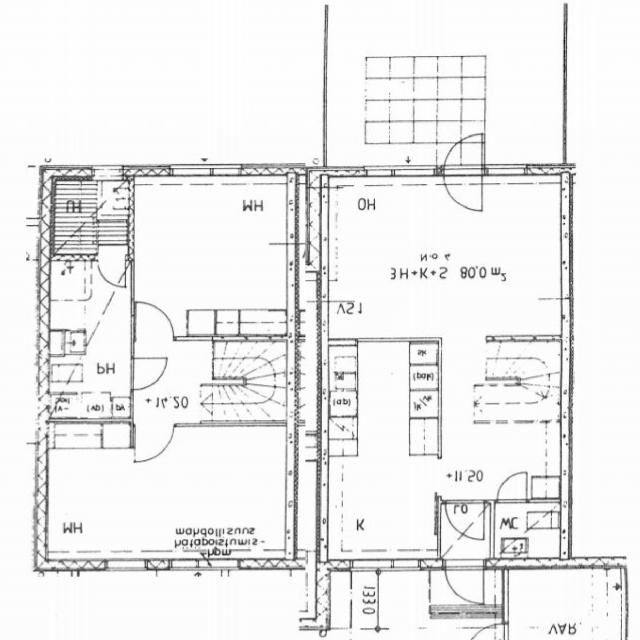door: (445, 559, 485, 607), (444, 129, 482, 176), (444, 165, 482, 211), (446, 499, 485, 540), (136, 422, 174, 461), (136, 300, 173, 340), (131, 358, 168, 389), (498, 472, 527, 503), (98, 254, 126, 286), (464, 623, 508, 640)
